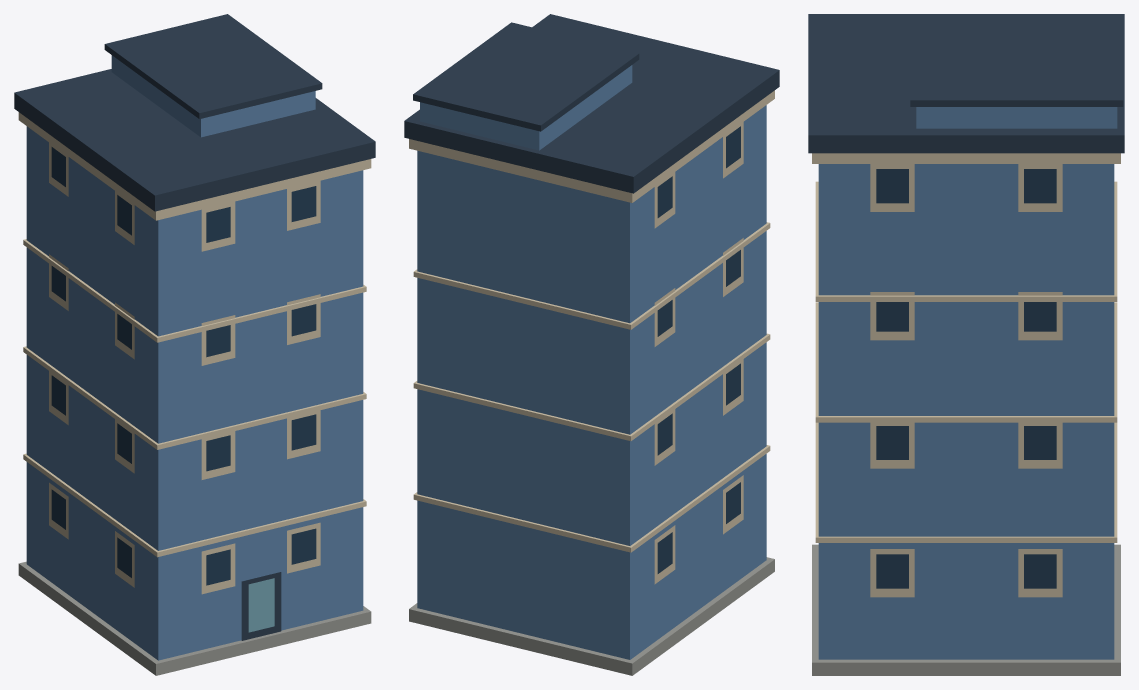
The model's file is office-blue.glb.
The picture shows the model from 3 angles, left to right: view 1: azimuth 30°, elevation 25°; view 2: azimuth 150°, elevation 25°; view 3: azimuth 270°, elevation 25°; orthographic projection. The views are drawn at different scales.
Parts seen in each view (by area): view 1: asset_root; view 2: asset_root; view 3: asset_root.
Part boxes in pixels (left/top/right/bottom): asset_root: left=14, top=14, right=375, bottom=675; asset_root: left=404, top=14, right=779, bottom=675; asset_root: left=808, top=14, right=1124, bottom=675.
Bounding box in the file's own units: 3.88 × 8.55 × 4.28.
